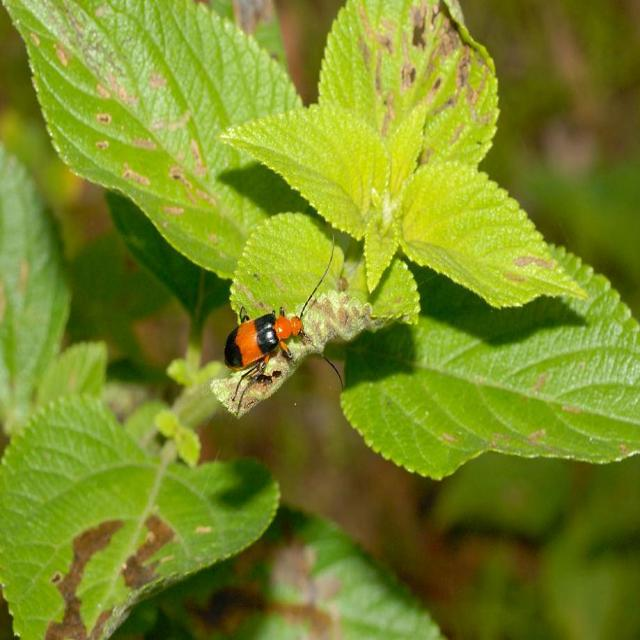BlisterBeetle-Adult-: (220, 234, 345, 399)
